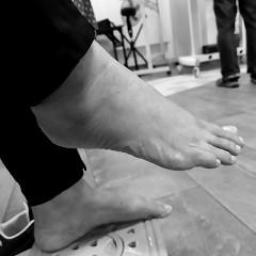Lateral View -Right Foot-: (15, 9, 251, 192)
